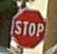stop: (10, 7, 46, 48)
